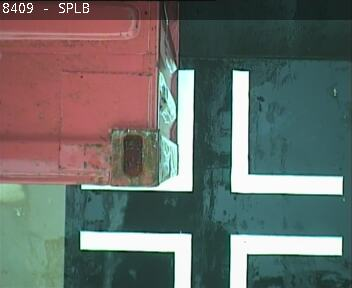groundmarker_1: (81, 72, 342, 194), (79, 232, 342, 288)
